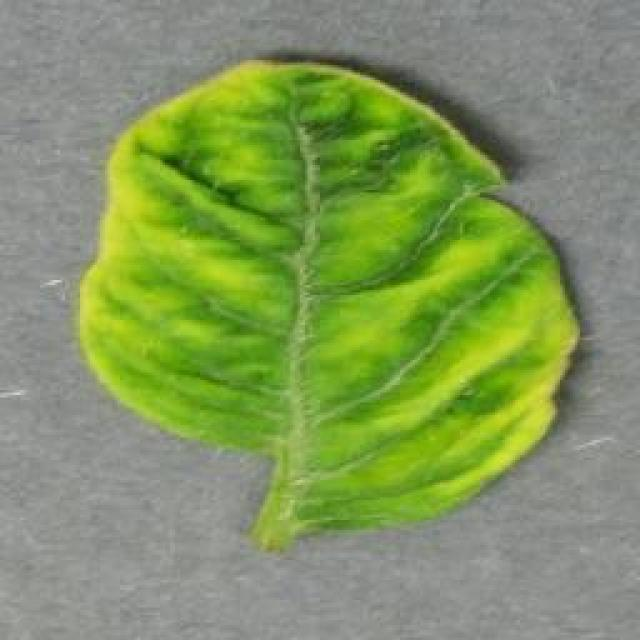Tomato yellow virus leaf: (70, 55, 578, 535)
